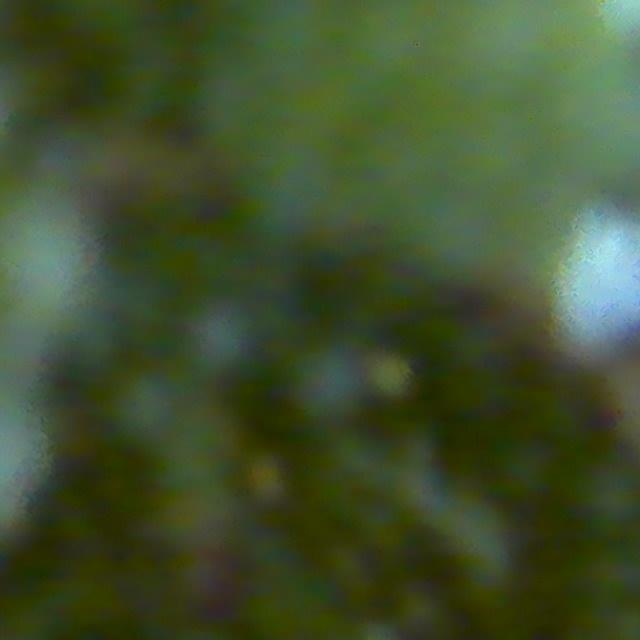SeaGrape: (0, 192, 101, 333), (109, 366, 190, 446), (181, 296, 260, 378), (289, 343, 364, 423)
